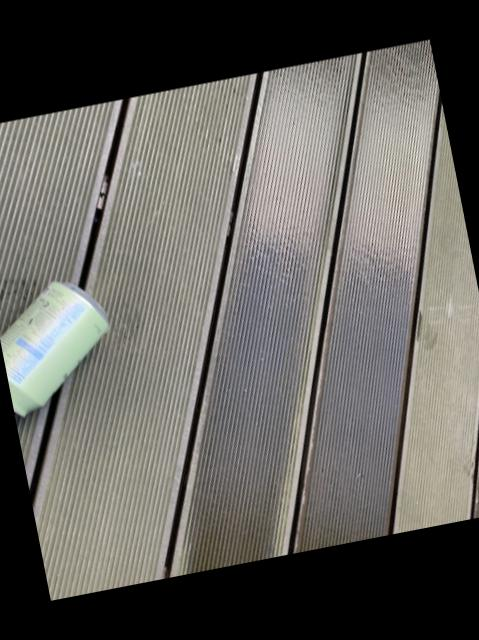metal: (0, 282, 107, 415)
